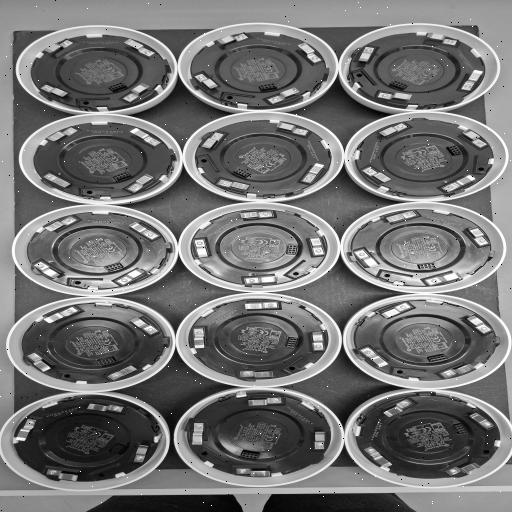konnektor: (106, 441, 128, 457), (239, 448, 264, 460), (283, 336, 301, 350), (451, 422, 469, 435), (97, 354, 116, 366), (426, 354, 448, 364), (388, 80, 409, 90), (234, 167, 253, 178), (416, 262, 439, 271), (108, 82, 128, 92), (103, 262, 125, 271), (284, 244, 300, 256), (446, 145, 462, 156), (112, 172, 131, 181), (258, 83, 278, 91)
yaysiz: (381, 395, 417, 418), (443, 459, 482, 479), (440, 174, 480, 193), (377, 301, 418, 319), (298, 162, 330, 185), (359, 345, 392, 367), (42, 305, 80, 324), (467, 410, 498, 433), (459, 128, 491, 150), (351, 248, 383, 270), (462, 314, 493, 336), (127, 221, 161, 241), (43, 170, 73, 192), (377, 120, 410, 140), (114, 267, 150, 285), (122, 38, 156, 57), (128, 128, 162, 147), (363, 445, 391, 468), (199, 130, 229, 151), (25, 351, 55, 372), (106, 364, 141, 382), (129, 316, 160, 336), (274, 121, 310, 138), (32, 260, 64, 279), (438, 362, 476, 378), (122, 82, 152, 102), (46, 215, 78, 233), (296, 42, 322, 64), (464, 225, 490, 247), (267, 87, 300, 104), (127, 173, 155, 193), (425, 272, 464, 286), (189, 421, 210, 447), (235, 466, 277, 479), (240, 300, 285, 312), (46, 126, 77, 143), (382, 210, 419, 224), (216, 32, 250, 47), (217, 178, 253, 192), (40, 84, 71, 100), (194, 72, 218, 92), (460, 70, 484, 90), (237, 367, 277, 379), (191, 325, 210, 350), (86, 402, 125, 414), (246, 396, 285, 408), (43, 39, 74, 54), (241, 274, 282, 285), (426, 32, 458, 46), (193, 238, 212, 260), (307, 235, 326, 257), (46, 470, 80, 482), (377, 91, 414, 102), (308, 330, 326, 352), (135, 442, 151, 465), (238, 210, 274, 220), (312, 428, 328, 450), (357, 46, 376, 64)
